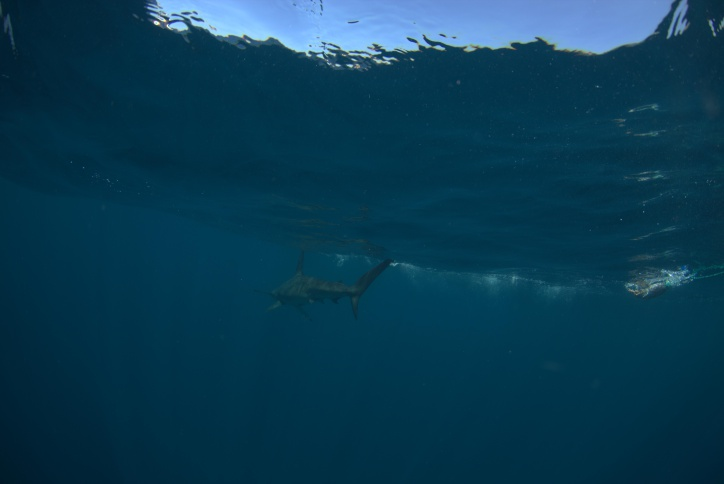Hammer: (232, 231, 408, 332)
